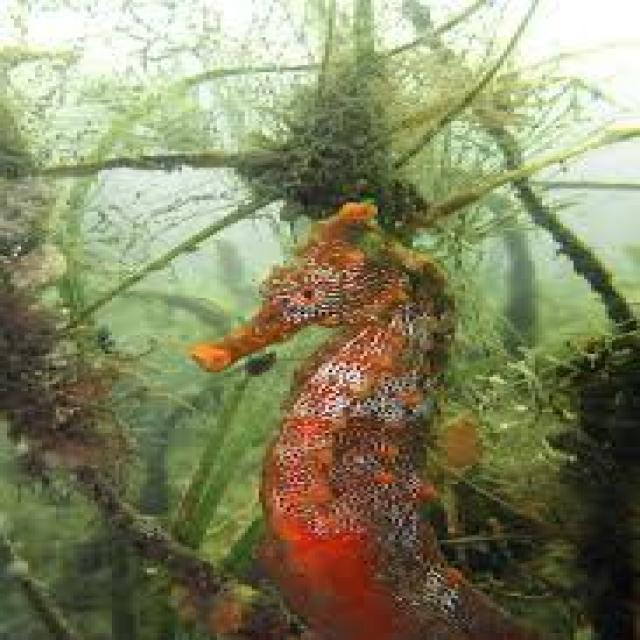seahorse: (189, 200, 535, 638)
